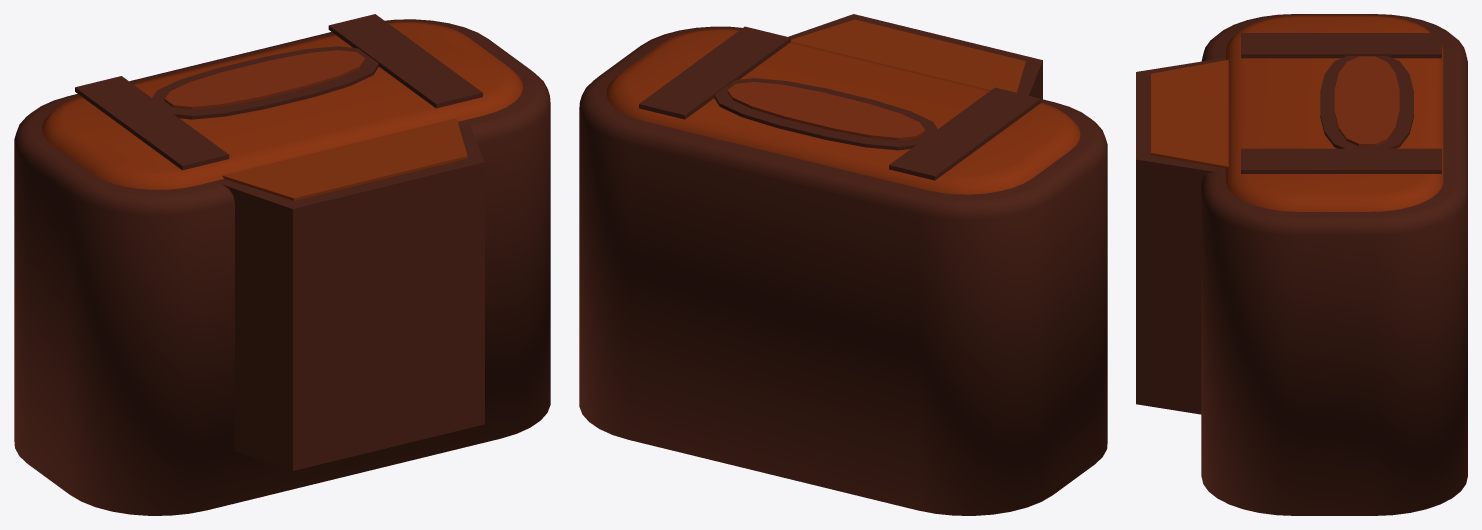
The model's file is bag_padrao.fbx.
3 views of the same model, side by side, from view 1: azimuth 30°, elevation 25°; view 2: azimuth 150°, elevation 25°; view 3: azimuth 270°, elevation 25° (orthographic). The views are drawn at different scales.
Parts seen in each view (by area): view 1: bag_padrao_mochila; view 2: bag_padrao_mochila; view 3: bag_padrao_mochila.
Boxes of the visible parts, x1,y1,x2,y2 form: bag_padrao_mochila: [14, 14, 550, 515]; bag_padrao_mochila: [579, 14, 1107, 515]; bag_padrao_mochila: [1136, 14, 1467, 515].
Bounding box in the file's own units: 2.8 × 1.9 × 1.84.
1 material, 1 textured.
